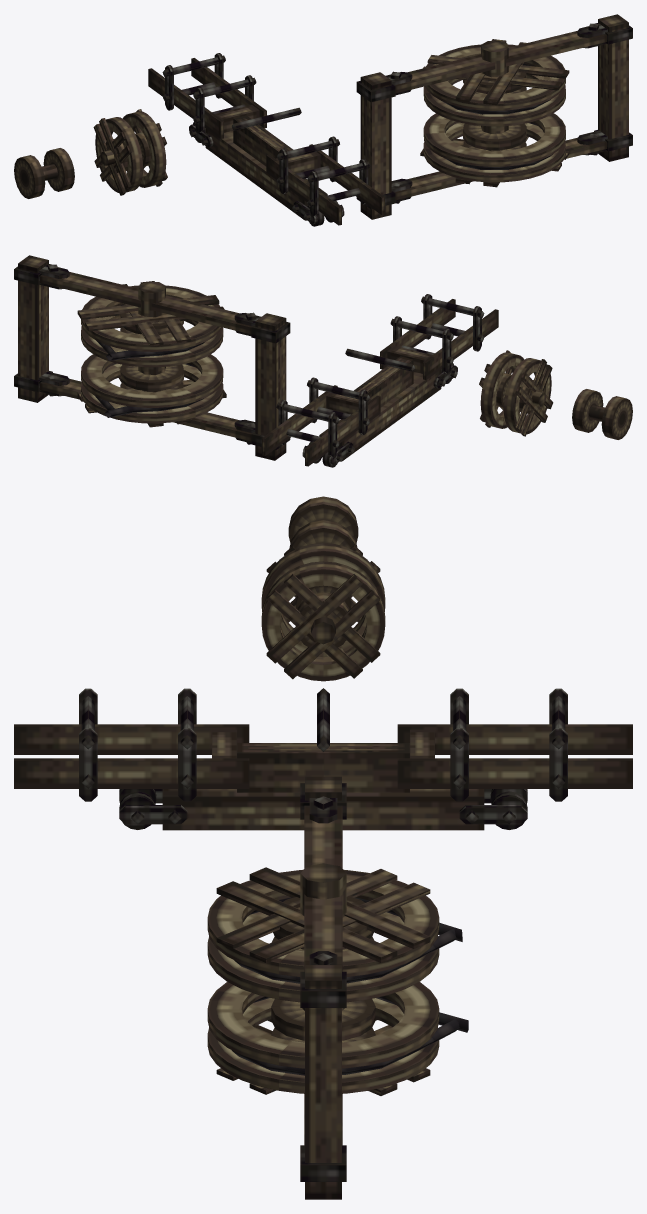
The model's file is EnvObjMD_Ropeway_End.FBX.
3 renders of one model, top to bottom at view 1: azimuth 30°, elevation 25°; view 2: azimuth 150°, elevation 25°; view 3: azimuth 270°, elevation 25°, orthographic. The views are drawn at different scales.
Parts seen in each view (by area): view 1: EnvObjMD_Ropeway_End, EnvObjMD_Ropeway_Pulley, EnvObjMD_Ropeway_Pulley_Main, EnvObjMD_Ropeway_Pulley_Sub; view 2: EnvObjMD_Ropeway_End, EnvObjMD_Ropeway_Pulley, EnvObjMD_Ropeway_Pulley_Main, EnvObjMD_Ropeway_Pulley_Sub; view 3: EnvObjMD_Ropeway_End, EnvObjMD_Ropeway_Pulley, EnvObjMD_Ropeway_Pulley_Main, EnvObjMD_Ropeway_Pulley_Sub.
Part boxes in pixels (x1,y1,x2,y2): EnvObjMD_Ropeway_End: (356, 14, 632, 219); EnvObjMD_Ropeway_Pulley: (148, 53, 384, 226); EnvObjMD_Ropeway_Pulley_Main: (93, 109, 167, 195); EnvObjMD_Ropeway_Pulley_Sub: (14, 148, 74, 198); EnvObjMD_Ropeway_End: (14, 255, 290, 460); EnvObjMD_Ropeway_Pulley: (262, 294, 498, 467); EnvObjMD_Ropeway_Pulley_Main: (479, 350, 553, 436); EnvObjMD_Ropeway_Pulley_Sub: (572, 389, 632, 439); EnvObjMD_Ropeway_End: (207, 776, 468, 1199); EnvObjMD_Ropeway_Pulley: (14, 688, 632, 830); EnvObjMD_Ropeway_Pulley_Main: (261, 543, 385, 681); EnvObjMD_Ropeway_Pulley_Sub: (288, 496, 358, 548).
Size of the model in its own units: 912 by 225 by 500.
